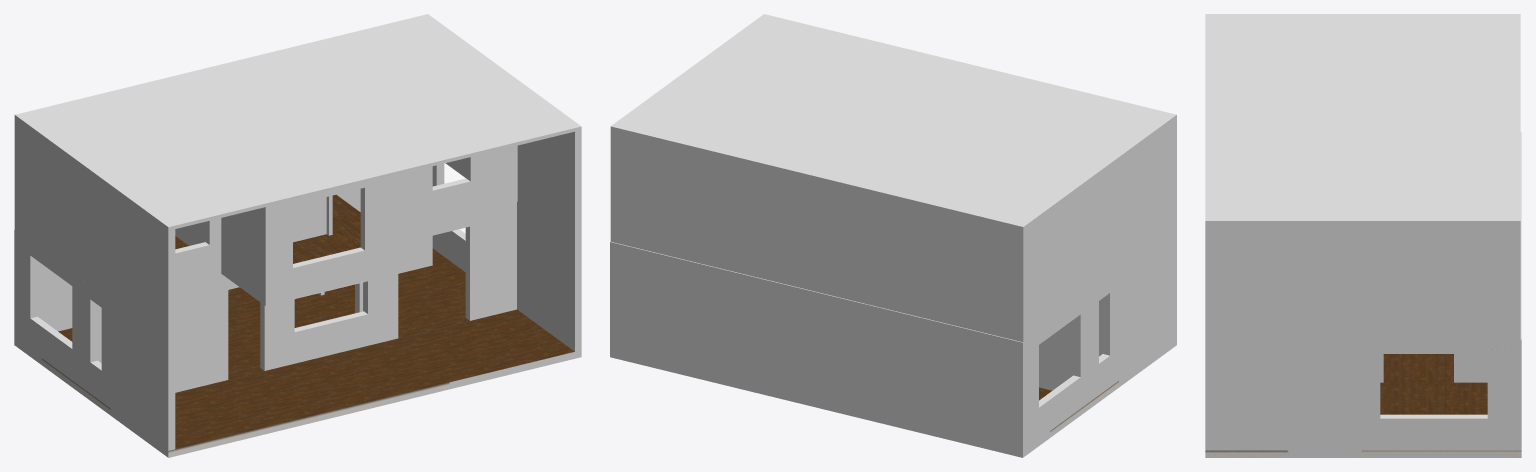
The model's file is Tuong56.FBX.
3 renders of one model, left to right at view 1: azimuth 30°, elevation 25°; view 2: azimuth 150°, elevation 25°; view 3: azimuth 270°, elevation 25°, orthographic. The views are drawn at different scales.
Parts seen in each view (by area): view 1: Office1_454; view 2: Office1_454; view 3: Office1_454.
Boxes of the visible parts, bbox=[...] form: Office1_454: bbox=[14, 14, 581, 457]; Office1_454: bbox=[610, 14, 1176, 457]; Office1_454: bbox=[1205, 14, 1521, 457].
Size of the model in its own units: 12370 by 6600 by 7994.
1 material, 1 textured.
